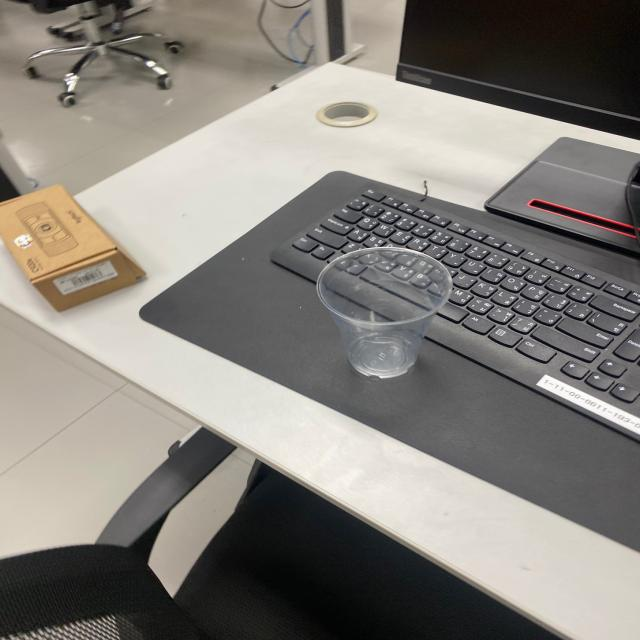glass: (316, 239, 458, 383)
